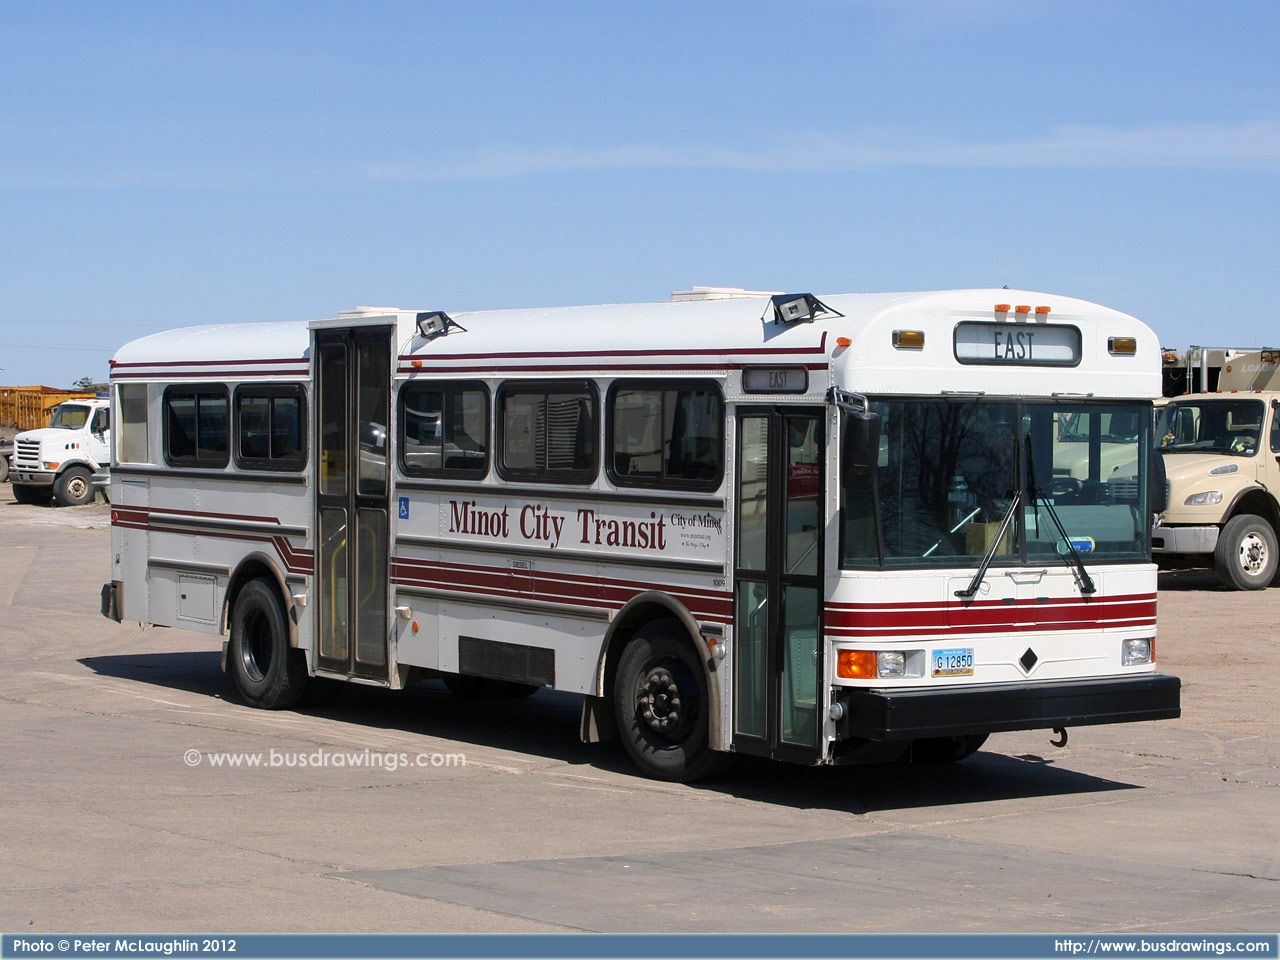bus: (107, 290, 1180, 789)
